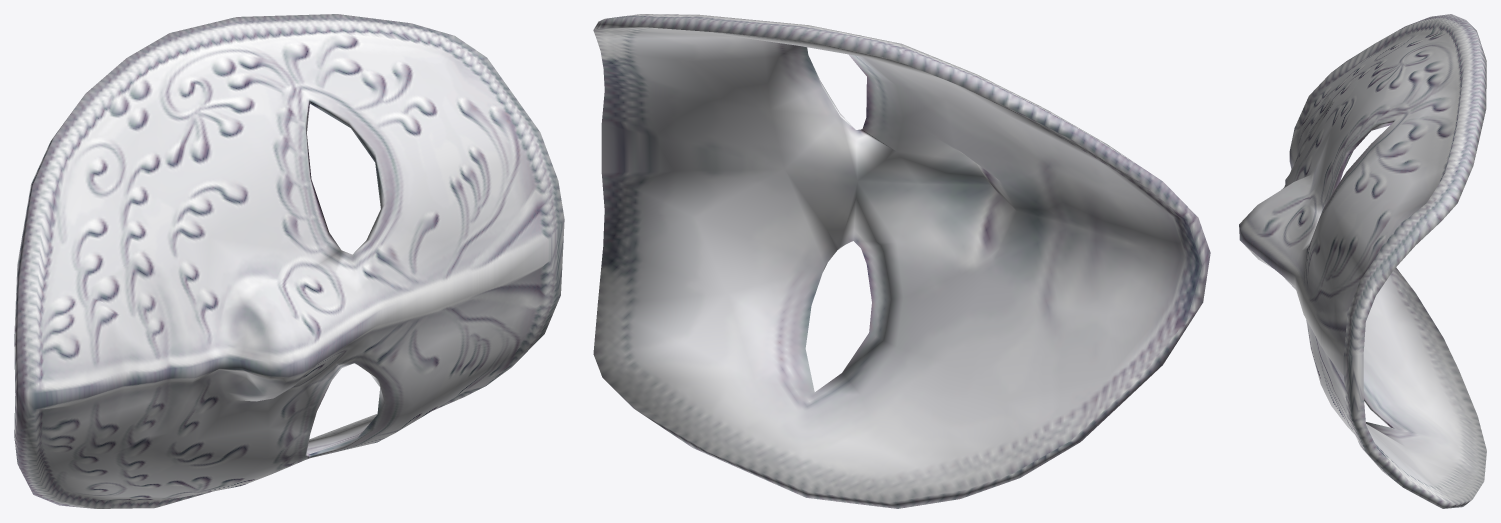
Rendered from M_PiousMask.fbx.
The picture shows the model from 3 angles, left to right: view 1: azimuth 30°, elevation 25°; view 2: azimuth 150°, elevation 25°; view 3: azimuth 270°, elevation 25°; orthographic projection. The views are drawn at different scales.
Parts seen in each view (by area): view 1: PiousMask; view 2: PiousMask; view 3: PiousMask.
Boxes of the visible parts, <box> form: PiousMask: <box>14,14,564,508</box>; PiousMask: <box>593,14,1210,508</box>; PiousMask: <box>1239,14,1486,508</box>.
Size of the model in its own units: 0.1361 by 0.1058 by 0.0586.
